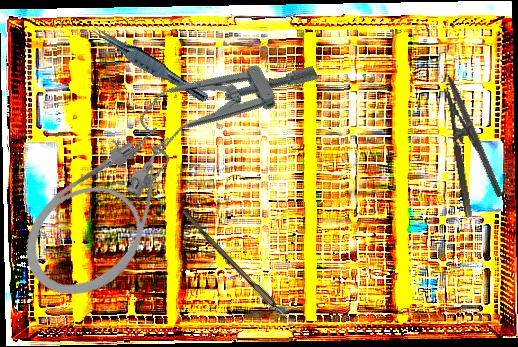Cannula: (2, 111, 215, 319)
Hook Surgical: (438, 57, 505, 198)
Needle Holder: (443, 83, 490, 219)
Speculum: (99, 23, 327, 195)
Surgical Spoon: (179, 209, 312, 343)
Tissue Forceps: (86, 22, 213, 104)
